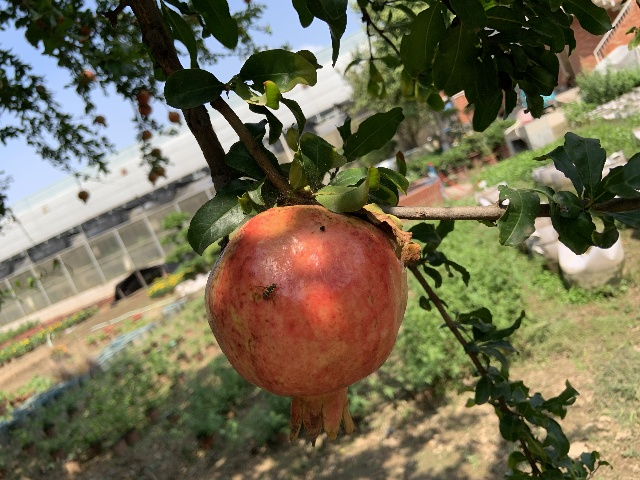ripe: (204, 205, 407, 447)
